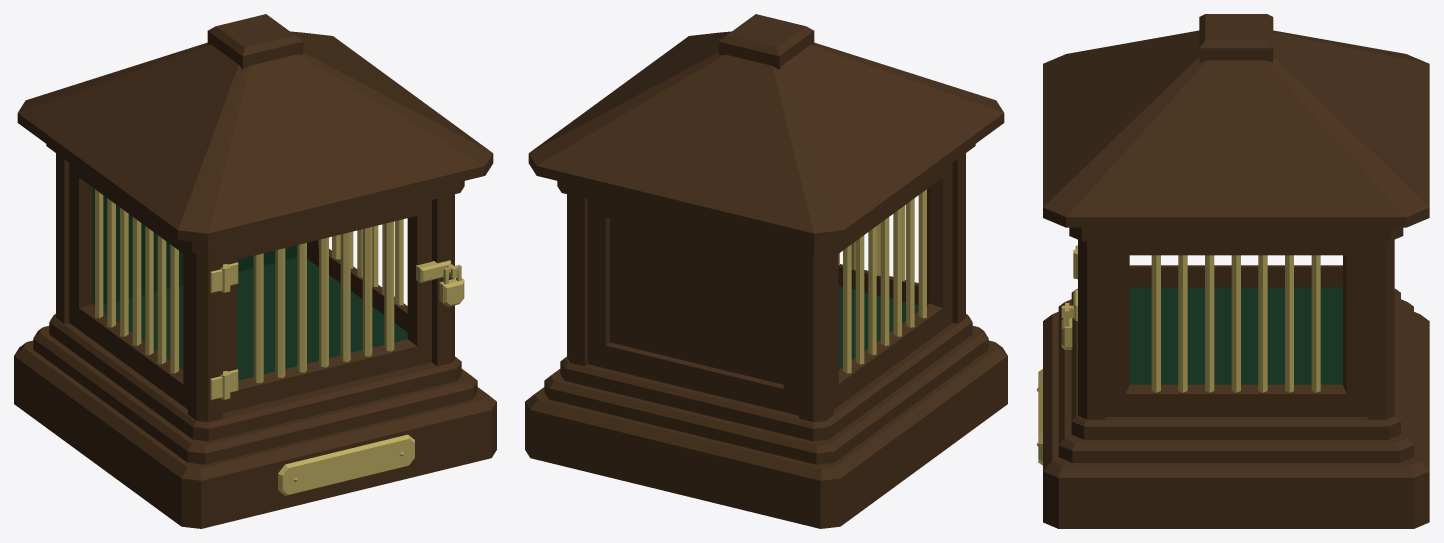
The model's file is dice-jail-bee37d.glb.
3 views of the same model, side by side, from view 1: azimuth 30°, elevation 25°; view 2: azimuth 150°, elevation 25°; view 3: azimuth 270°, elevation 25° (orthographic). The views are drawn at different scales.
Parts seen in each view (by area): view 1: body, door-leaf, padlock-body; view 2: body, door-leaf; view 3: body.
Part boxes in pixels (bbox=[...]): body: bbox=[14, 14, 496, 528]; door-leaf: bbox=[220, 200, 457, 412]; padlock-body: bbox=[439, 264, 464, 306]; body: bbox=[525, 14, 1007, 528]; door-leaf: bbox=[838, 187, 929, 305]; body: bbox=[1036, 14, 1429, 528].
Size of the model in its own units: 0.05 by 0.06 by 0.0509.
